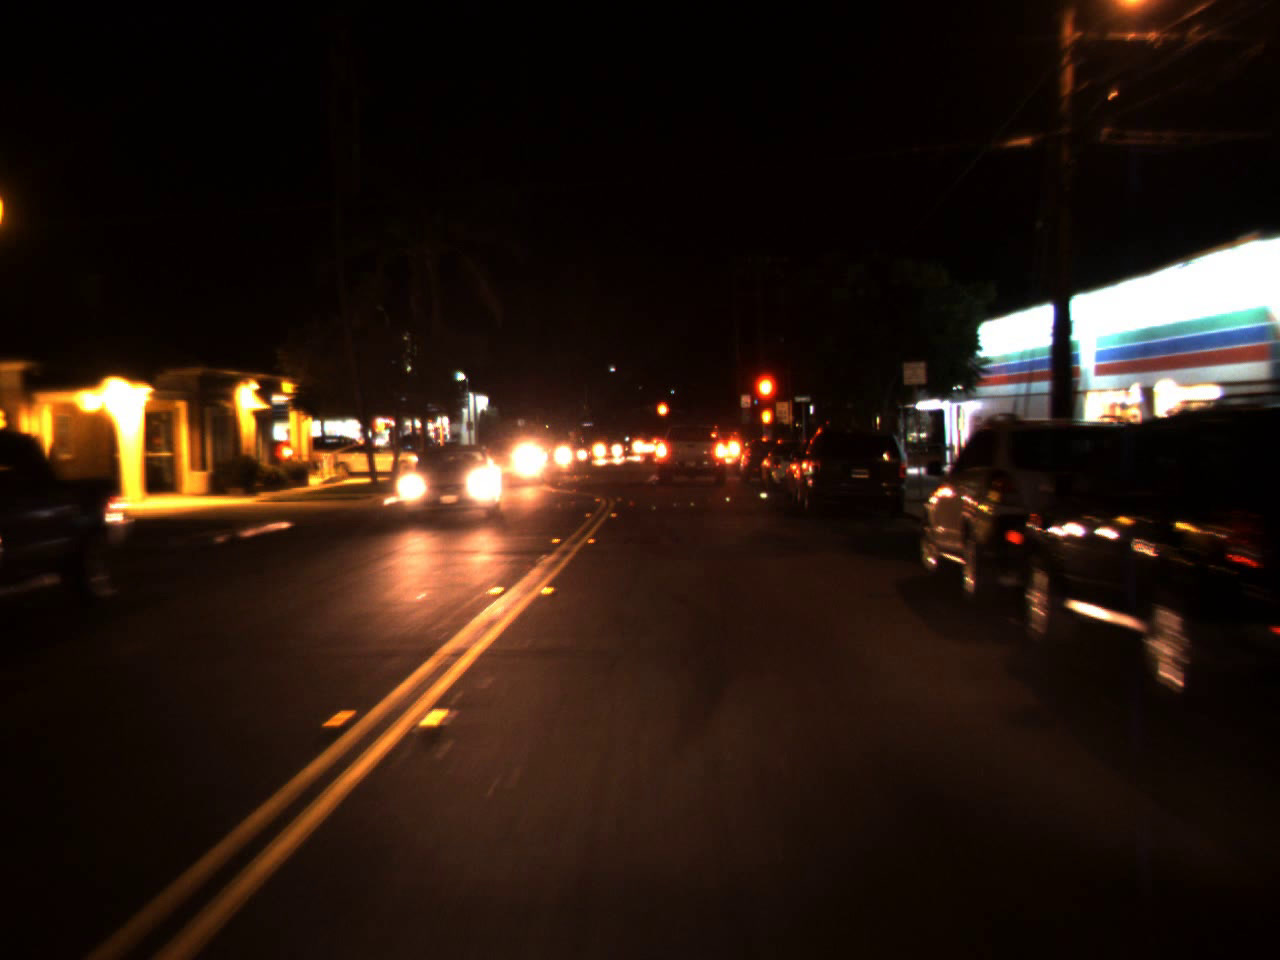stop: (751, 370, 781, 434), (655, 400, 671, 435)
warning: (653, 391, 671, 423)
